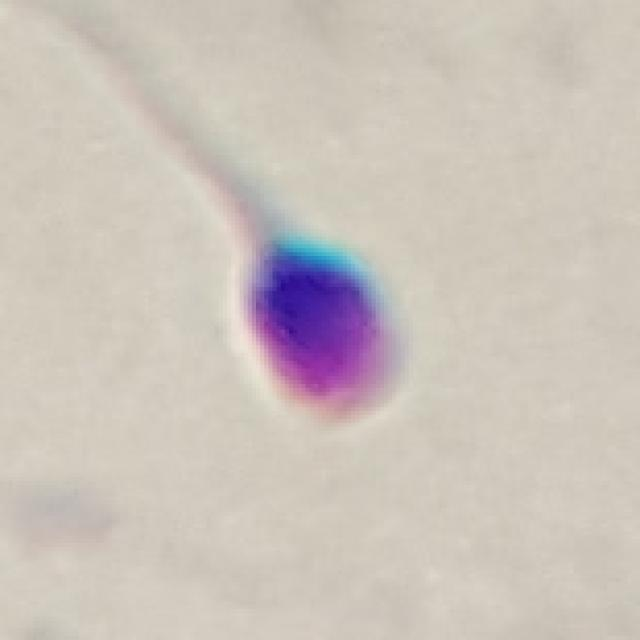normal sperm: (188, 143, 429, 442)
